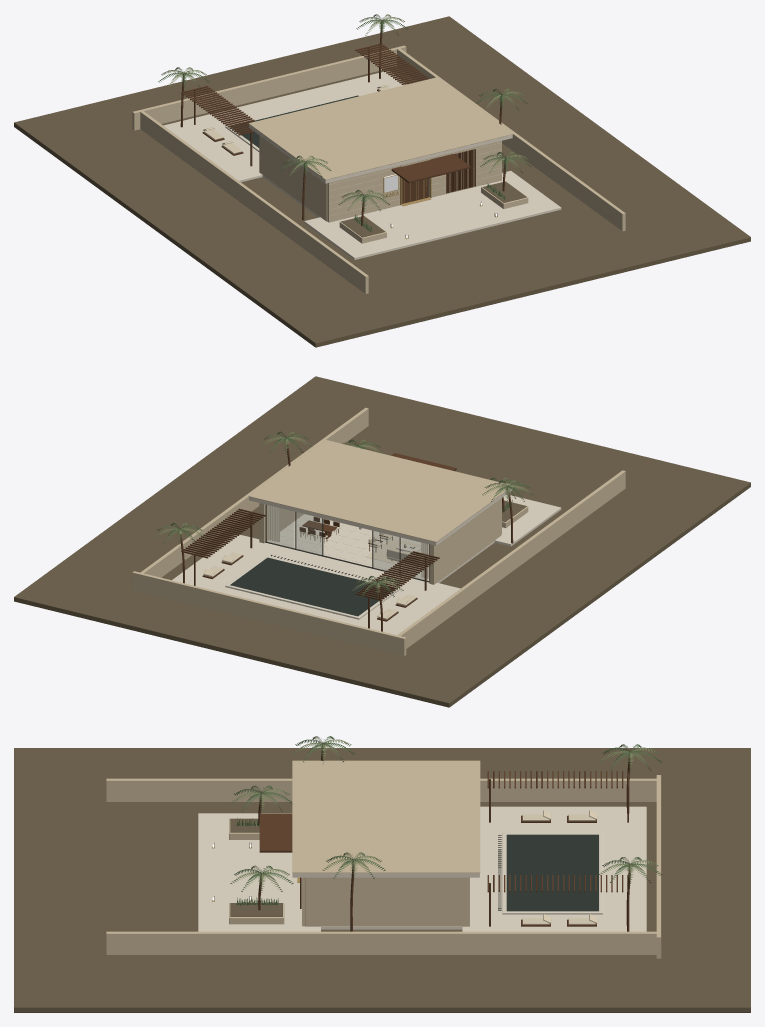
File: thara-courtyard.glb
The picture shows the model from 3 angles, top to bottom: view 1: azimuth 30°, elevation 25°; view 2: azimuth 150°, elevation 25°; view 3: azimuth 270°, elevation 25°; orthographic projection. The views are drawn at different scales.
Parts seen in each view (by area): view 1: Static_Earth, Static_Limestone, Static_Travertine, Static_Walnut, Static_Palm_leaf_light, Static_Palm_leaf, Door_slab; view 2: Static_Earth, Static_Limestone, Static_Travertine, Static_Walnut, Static_Charcoal, Rear_glass (×3), Static_Palm_leaf_light, Static_Linen, Static_Palm_leaf, Static_Window_frame; view 3: Static_Earth, Static_Limestone, Static_Travertine, Static_Charcoal, Static_Walnut, Static_Palm_leaf_light, Static_Palm_leaf, Static_Linen.
Boxes of the visible parts, left/top/right/bottom form: Static_Earth: left=14, top=16, right=750, bottom=347; Static_Limestone: left=132, top=45, right=625, bottom=294; Static_Travertine: left=163, top=71, right=561, bottom=259; Static_Walnut: left=180, top=20, right=505, bottom=225; Static_Palm_leaf_light: left=161, top=14, right=528, bottom=232; Static_Palm_leaf: left=158, top=14, right=531, bottom=231; Door_slab: left=401, top=178, right=428, bottom=203; Static_Earth: left=14, top=376, right=750, bottom=707; Static_Limestone: left=132, top=407, right=625, bottom=656; Static_Travertine: left=172, top=487, right=561, bottom=634; Static_Walnut: left=179, top=442, right=513, bottom=631; Static_Charcoal: left=230, top=547, right=415, bottom=616; Rear_glass (×3): left=268, top=505, right=399, bottom=570; Static_Palm_leaf_light: left=154, top=431, right=533, bottom=599; Static_Linen: left=203, top=521, right=421, bottom=619; Static_Palm_leaf: left=163, top=431, right=530, bottom=597; Static_Window_frame: left=265, top=504, right=429, bottom=585; Static_Earth: left=14, top=748, right=750, bottom=1012; Static_Limestone: left=106, top=760, right=661, bottom=958; Static_Travertine: left=198, top=806, right=646, bottom=931; Static_Charcoal: left=506, top=834, right=598, bottom=911; Static_Walnut: left=258, top=743, right=630, bottom=931; Static_Palm_leaf_light: left=230, top=736, right=658, bottom=904; Static_Palm_leaf: left=234, top=736, right=662, bottom=905; Static_Linen: left=522, top=810, right=597, bottom=924.
Size of the model in its own units: 40 by 6.4 by 48.
